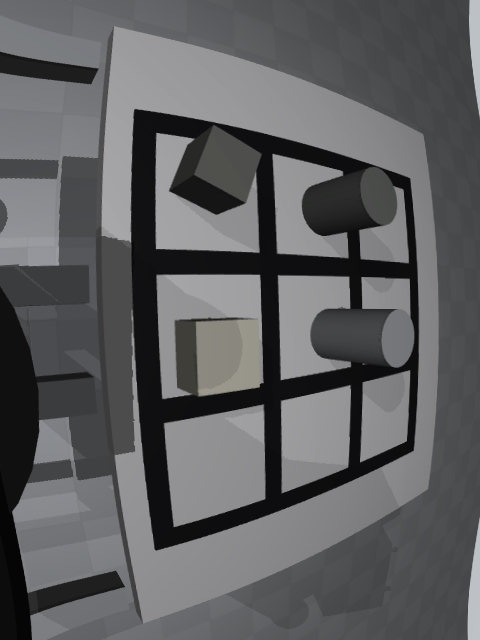can: (310, 309, 414, 368)
cube: (169, 125, 262, 215)
cylinder: (302, 167, 398, 236)
foam: (175, 318, 260, 396)
